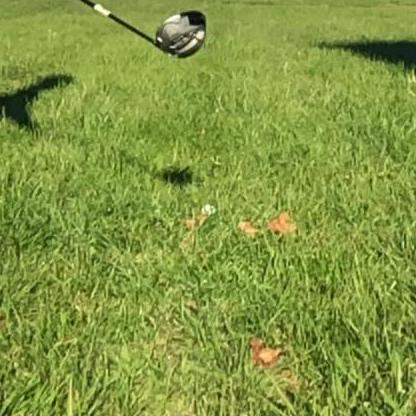golfball: (199, 201, 216, 215)
